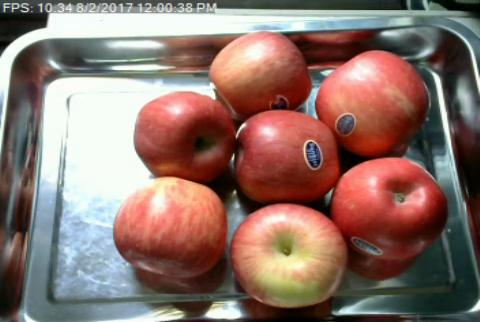apple: (229, 203, 348, 307), (332, 157, 449, 260), (112, 175, 227, 279), (316, 50, 429, 154), (234, 110, 341, 205), (133, 92, 234, 183), (210, 31, 310, 112)
